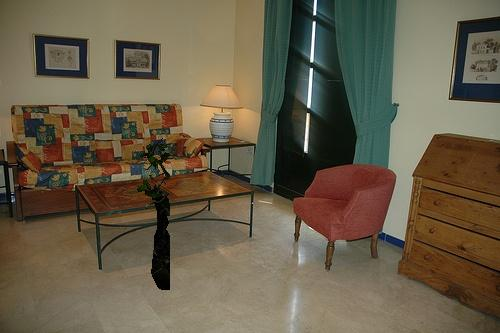tampered: (138, 139, 170, 290)
